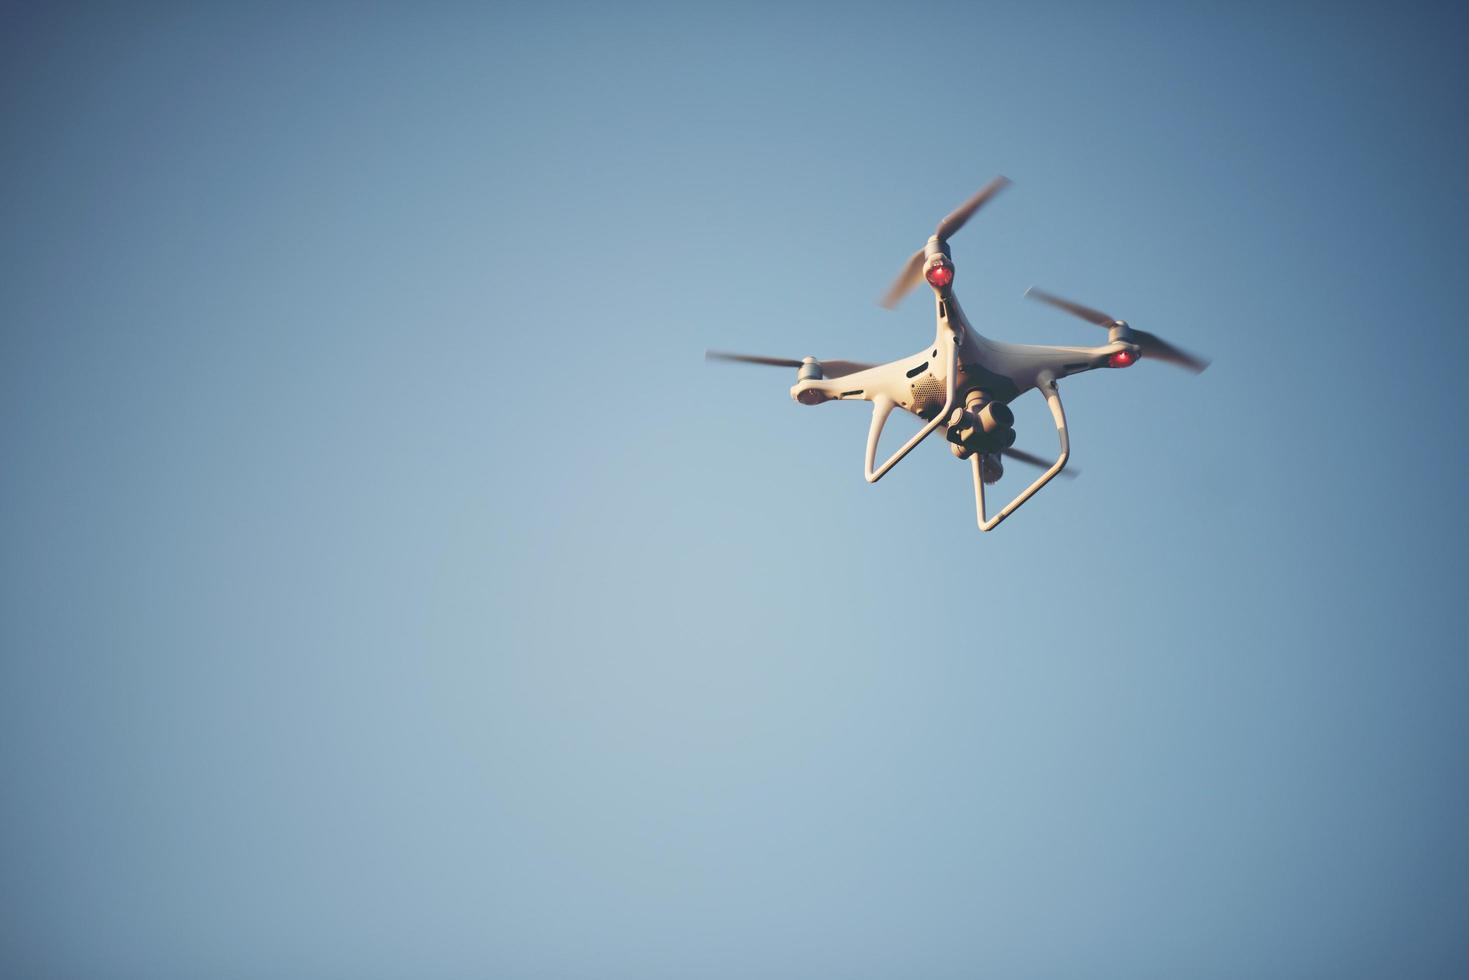drone: (700, 170, 1209, 527)
